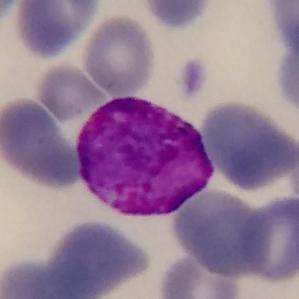Basophil: (71, 89, 219, 225), (17, 215, 162, 299)
Platelets: (176, 56, 210, 101)
RBC: (196, 96, 299, 194), (168, 184, 269, 278), (0, 95, 83, 191), (80, 12, 158, 98), (11, 0, 102, 61), (239, 194, 299, 286), (33, 61, 104, 122), (156, 250, 243, 299), (271, 15, 299, 120), (0, 256, 61, 299), (142, 0, 215, 32), (261, 0, 299, 54), (287, 131, 299, 206), (0, 0, 24, 26)
